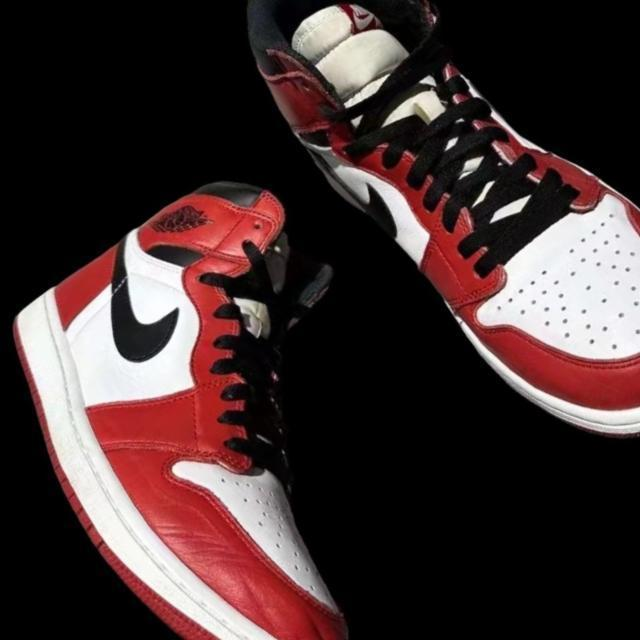nike original jordan 1: (0, 123, 563, 640), (192, 0, 640, 494)
